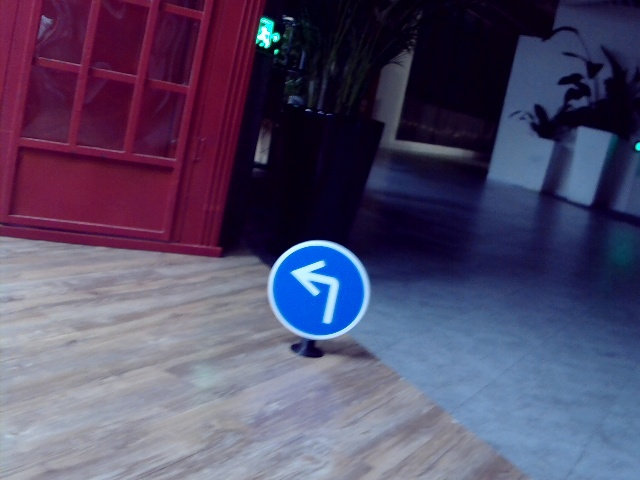turn_left: (291, 256, 339, 325)
